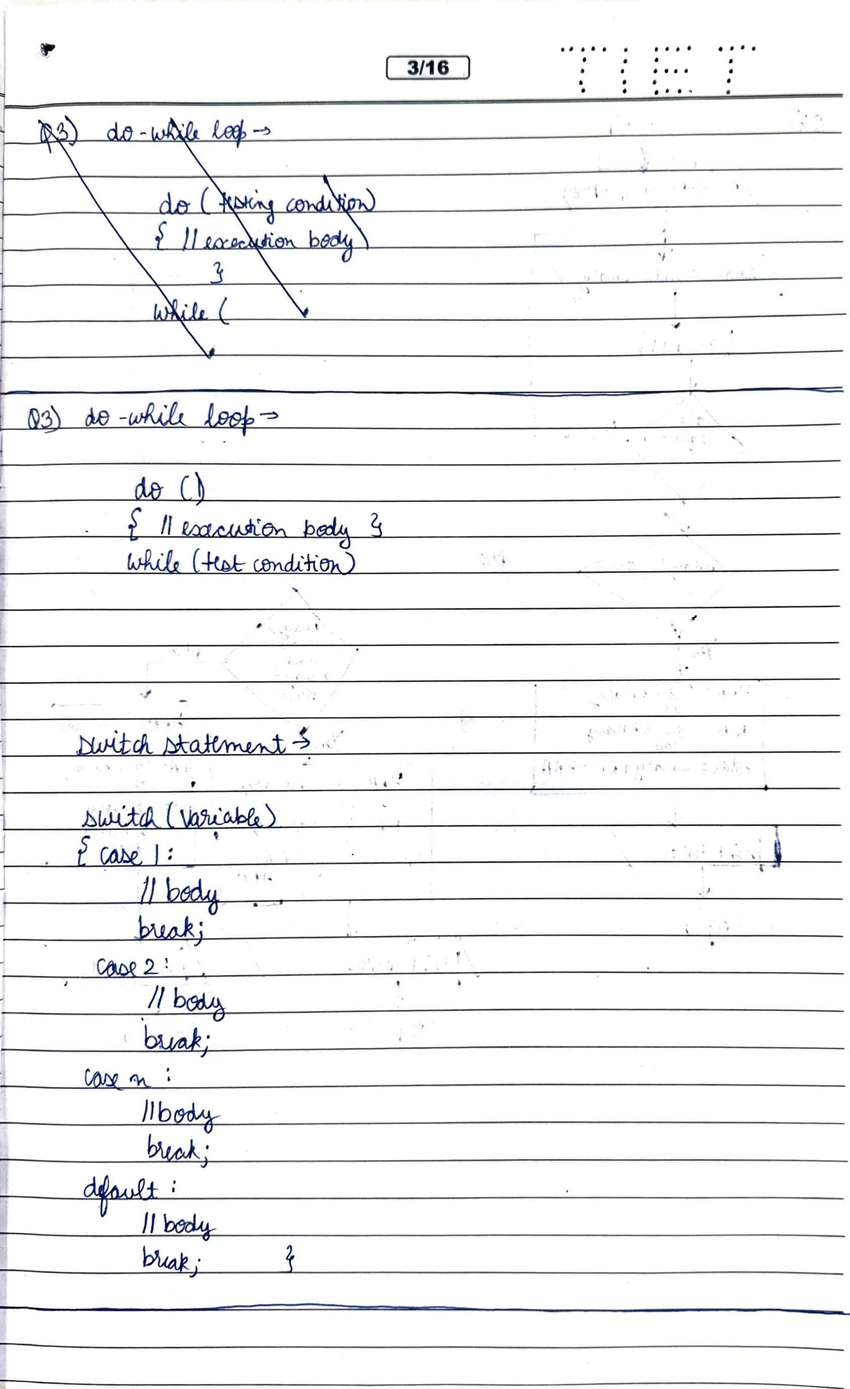cuttings: (37, 111, 382, 359)
